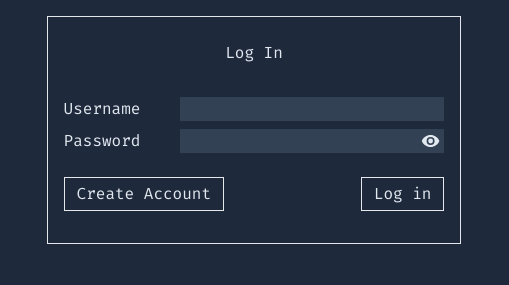
Test: Login › On form submission › renders an error message with status when fetch response not OK
// Set up form fill
In the field named "username-input": [312, 109] box x1=180 y1=97 x2=444 y2=121, type "james"
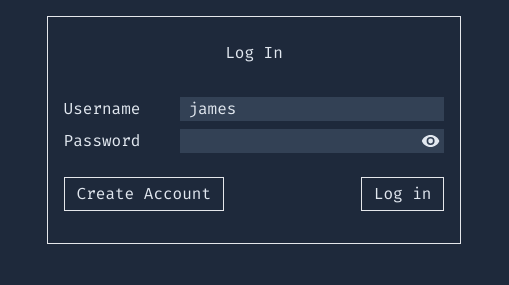
In the password field named "password-input": [312, 141] box x1=180 y1=129 x2=444 y2=153, type "123456"
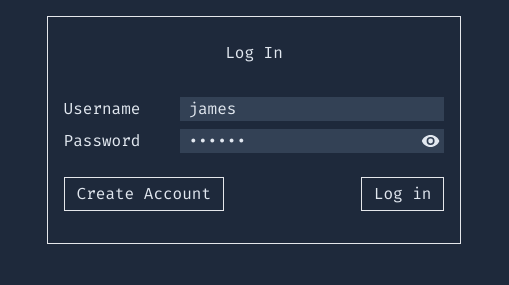
Click the button "Log in": [403, 194] box x1=361 y1=177 x2=444 y2=211
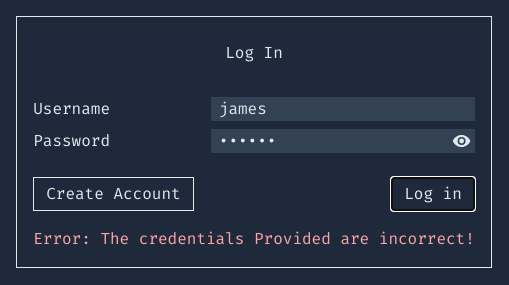
Now the text "Error: The credentials Provided are incorrect!" is shown, box x1=33 y1=227 x2=475 y2=251
